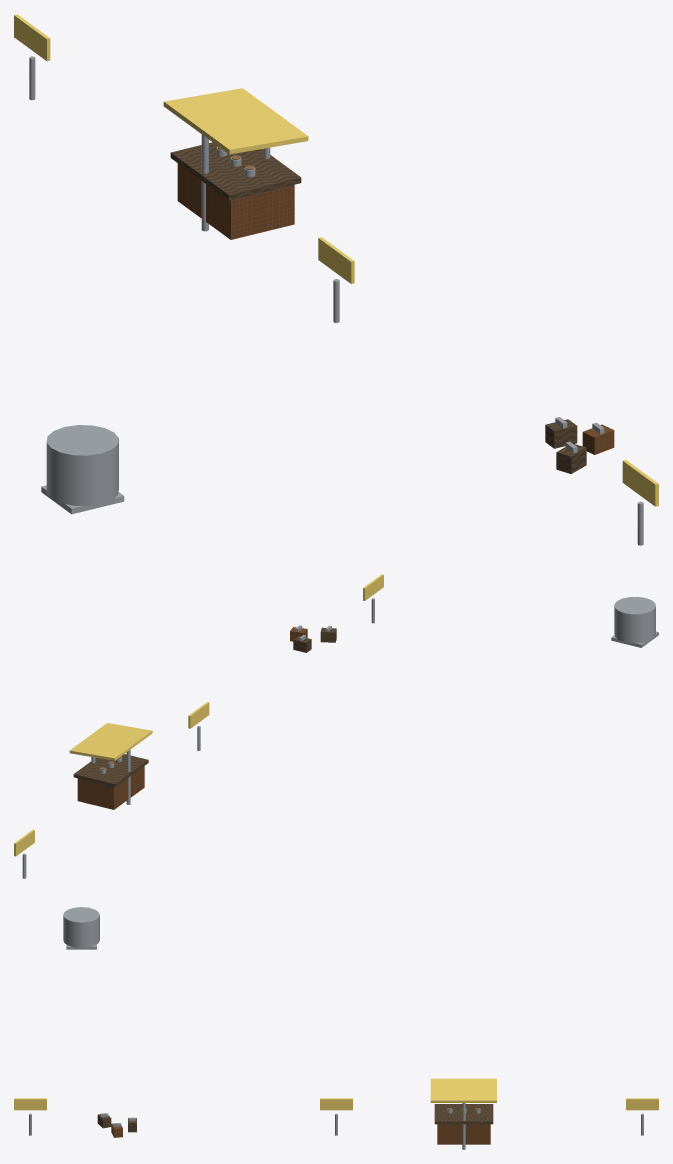
Rendered from SM_Props_RailwayKit.glb.
The picture shows the model from 3 angles, top to bottom: view 1: azimuth 30°, elevation 25°; view 2: azimuth 150°, elevation 25°; view 3: azimuth 270°, elevation 25°; orthographic projection. The views are drawn at different scales.
Visible parts, largest first — view 1: ChaiCanopy, WaterTank, ChaiCounter, ChaiTop, Signboard0, Signboard1, Signboard2; view 2: ChaiCanopy, WaterTank, ChaiCounter, ChaiTop; view 3: ChaiCanopy, WaterTank, ChaiTop, ChaiCounter, Signboard0, Signboard1, Signboard2.
Part boxes in pixels (x1=…): ChaiCanopy: x1=163, y1=88, x2=308, y2=154; WaterTank: x1=46, y1=425, x2=118, y2=506; ChaiCounter: x1=177, y1=163, x2=294, y2=239; ChaiTop: x1=170, y1=142, x2=301, y2=200; Signboard0: x1=14, y1=14, x2=50, y2=61; Signboard1: x1=318, y1=237, x2=354, y2=283; Signboard2: x1=622, y1=460, x2=658, y2=506; ChaiCanopy: x1=69, y1=723, x2=152, y2=760; WaterTank: x1=614, y1=596, x2=655, y2=643; ChaiCounter: x1=77, y1=766, x2=144, y2=809; ChaiTop: x1=73, y1=754, x2=148, y2=787; ChaiCanopy: x1=430, y1=1078, x2=496, y2=1102; WaterTank: x1=63, y1=907, x2=99, y2=947; ChaiTop: x1=434, y1=1104, x2=493, y2=1124; ChaiCounter: x1=437, y1=1124, x2=490, y2=1144; Signboard0: x1=626, y1=1098, x2=658, y2=1110; Signboard1: x1=320, y1=1098, x2=352, y2=1110; Signboard2: x1=14, y1=1098, x2=46, y2=1110.
Size of the model in its own units: 13.77 by 4.15 by 25.3.
Materials: 5 (2 with a texture image).
